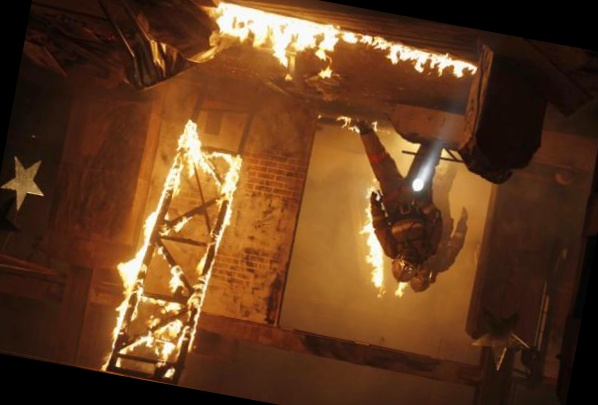fire: (90, 112, 287, 397), (192, 0, 494, 123), (334, 181, 423, 315)
